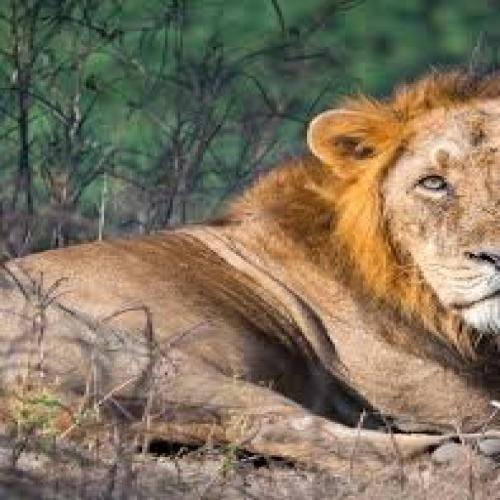lion-endangered: (0, 73, 500, 494)
